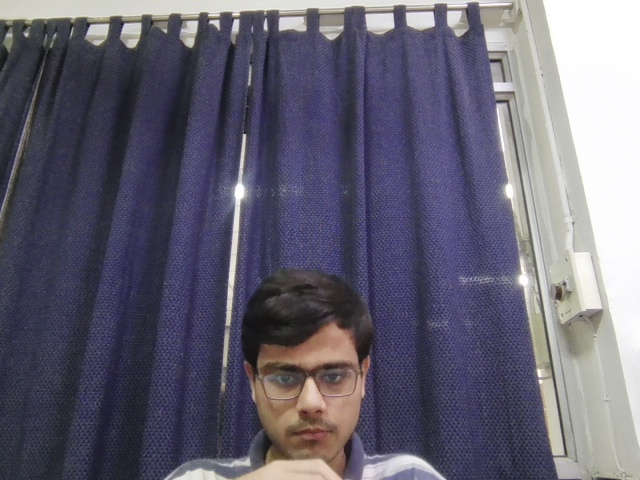face: (244, 268, 374, 458)
